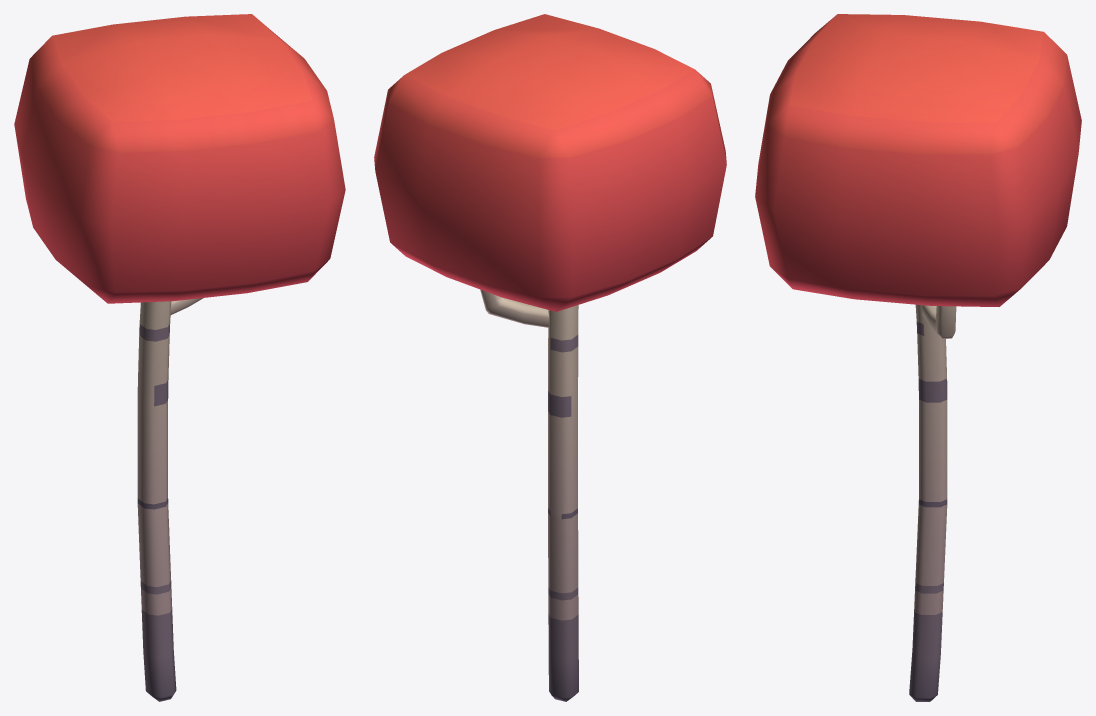
Rendered from birch_tree_SC_08.fbx.
3 renders of one model, left to right at view 1: azimuth 30°, elevation 25°; view 2: azimuth 150°, elevation 25°; view 3: azimuth 270°, elevation 25°, orthographic. The views are drawn at different scales.
Visible parts, largest first — view 1: birch_tree_SC_08; view 2: birch_tree_SC_08; view 3: birch_tree_SC_08.
Part boxes in pixels (x1=…): birch_tree_SC_08: x1=14, y1=14, x2=345, y2=701; birch_tree_SC_08: x1=374, y1=14, x2=726, y2=701; birch_tree_SC_08: x1=755, y1=14, x2=1081, y2=701.
Bounding box in the file's own units: 280 × 618 × 280.
Materials: 1 (1 with a texture image).
